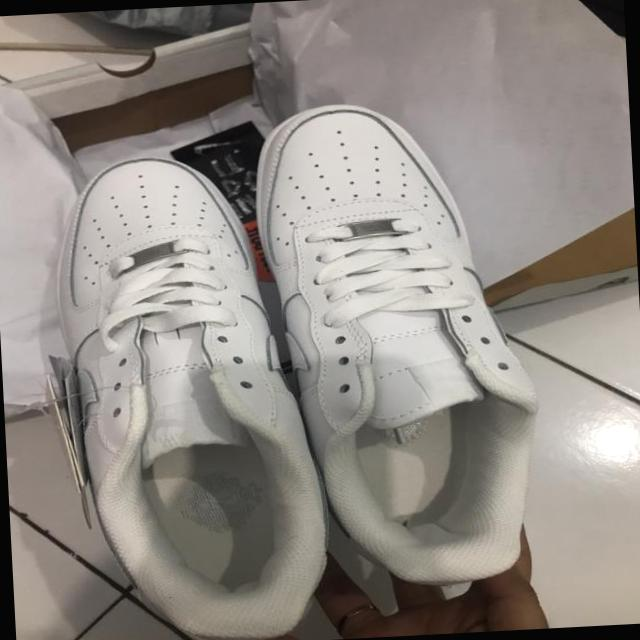nike_fake_airforce: (238, 92, 547, 596), (42, 150, 339, 640)
